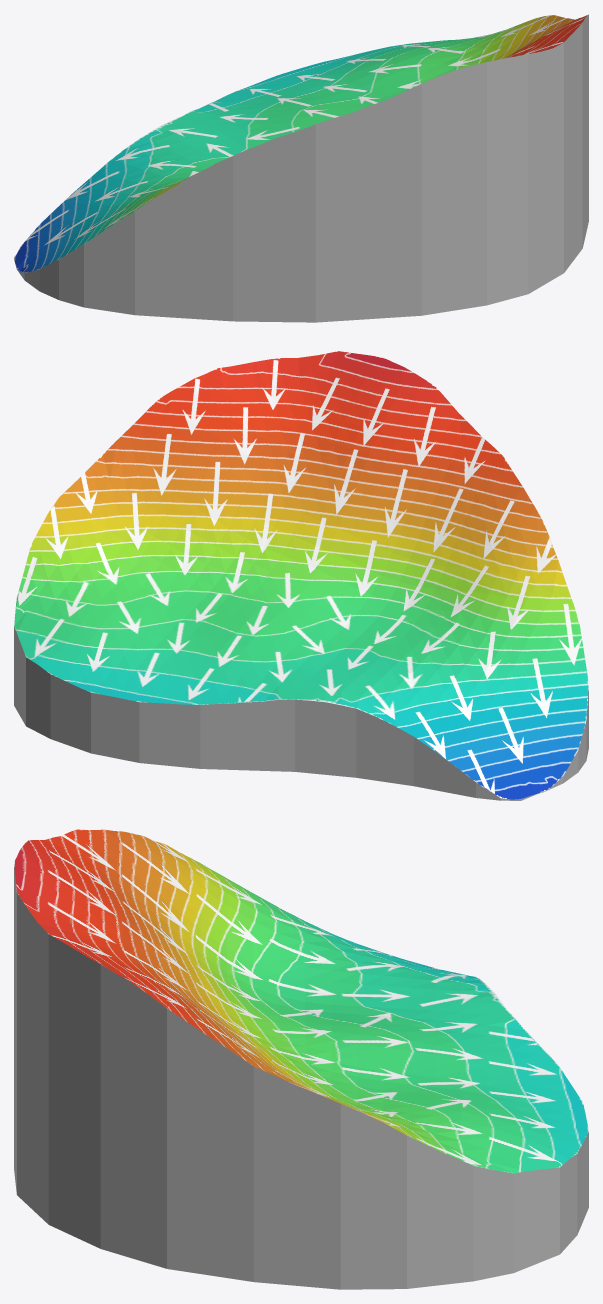
3 renders of one model, top to bottom at view 1: azimuth 30°, elevation 25°; view 2: azimuth 150°, elevation 25°; view 3: azimuth 270°, elevation 25°, orthographic. The views are drawn at different scales.
Size of the model in its own units: 5.13 by 2.32 by 3.92.
Materials: 2 (1 with a texture image).
